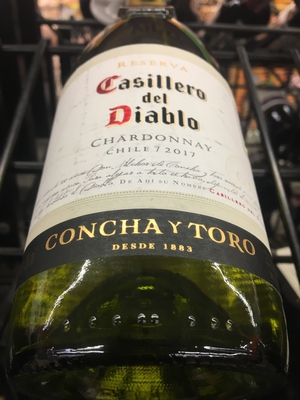casillero del diablo chardonnay: (29, 16, 270, 385)
